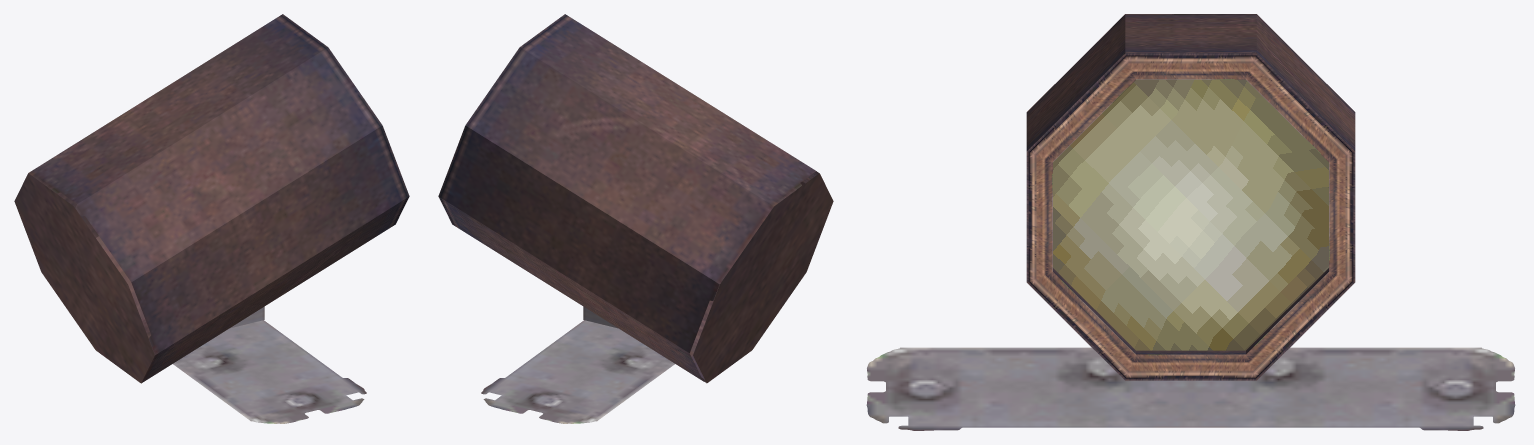
Rendered from wall_light.fbx.
3 views of the same model, side by side, from view 1: azimuth 30°, elevation 25°; view 2: azimuth 150°, elevation 25°; view 3: azimuth 270°, elevation 25° (orthographic). The views are drawn at different scales.
Visible parts, largest first — view 1: mesh_0; view 2: mesh_0; view 3: mesh_0, mesh_1.
Boxes of the visible parts, <box> form: mesh_0: <box>14,14,409,423</box>; mesh_0: <box>438,14,833,423</box>; mesh_0: <box>866,14,1515,430</box>; mesh_1: <box>1053,79,1328,350</box>.
Bounding box in the file's own units: 32.69 × 28.2 × 40.
2 materials, 2 textured.
